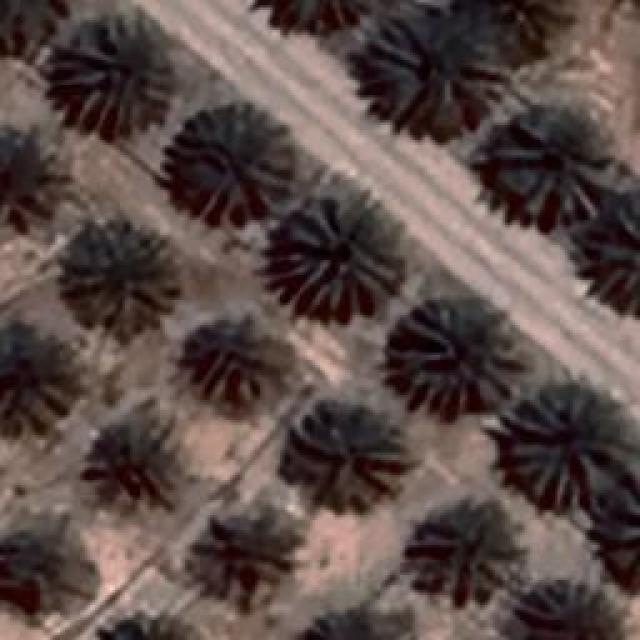PalmTree: (502, 380, 632, 512), (388, 300, 530, 418), (275, 190, 403, 320), (165, 102, 298, 222), (49, 9, 172, 132), (365, 17, 505, 125), (55, 220, 183, 338), (492, 105, 618, 220), (405, 494, 530, 608), (282, 408, 410, 510), (185, 308, 293, 410), (440, 0, 574, 67), (211, 506, 291, 604), (577, 193, 640, 310), (495, 585, 623, 640), (100, 409, 175, 499), (0, 328, 62, 436), (588, 474, 640, 588), (2, 534, 82, 606), (230, 0, 381, 34), (0, 125, 48, 227), (0, 0, 64, 65), (93, 605, 207, 640), (294, 605, 408, 640)
